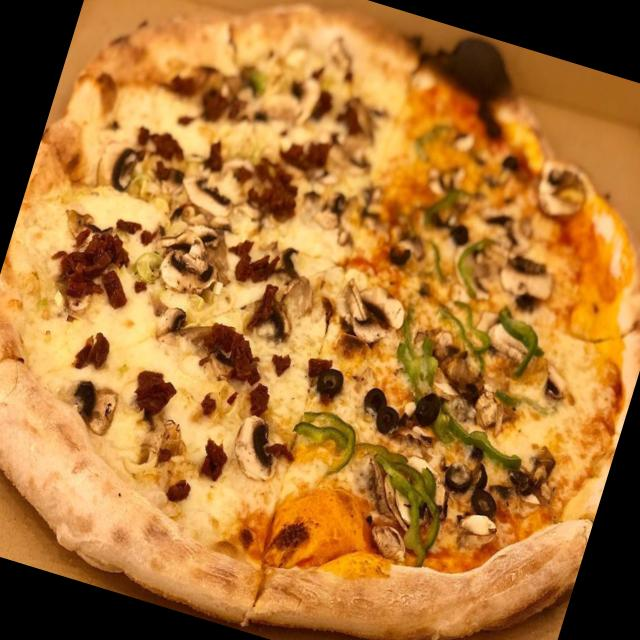black_olives: (436, 449, 505, 513), (357, 385, 405, 440), (312, 362, 346, 406), (410, 384, 441, 428), (386, 240, 410, 268)
mushrooms: (429, 346, 519, 434), (342, 462, 422, 557), (148, 213, 229, 299), (328, 268, 406, 352), (222, 409, 296, 492), (169, 160, 242, 228), (528, 153, 594, 227), (93, 127, 153, 194), (61, 374, 122, 438), (498, 248, 560, 308), (477, 192, 535, 252), (264, 66, 320, 128), (296, 170, 351, 230), (145, 293, 192, 350), (480, 318, 530, 368), (532, 352, 578, 400), (453, 500, 496, 551), (270, 270, 314, 318), (254, 298, 297, 346), (386, 228, 412, 260)
peppers: (369, 316, 550, 480), (355, 448, 460, 570), (436, 232, 514, 348), (284, 400, 361, 477), (480, 304, 548, 379)
pizza: (0, 2, 640, 640)
